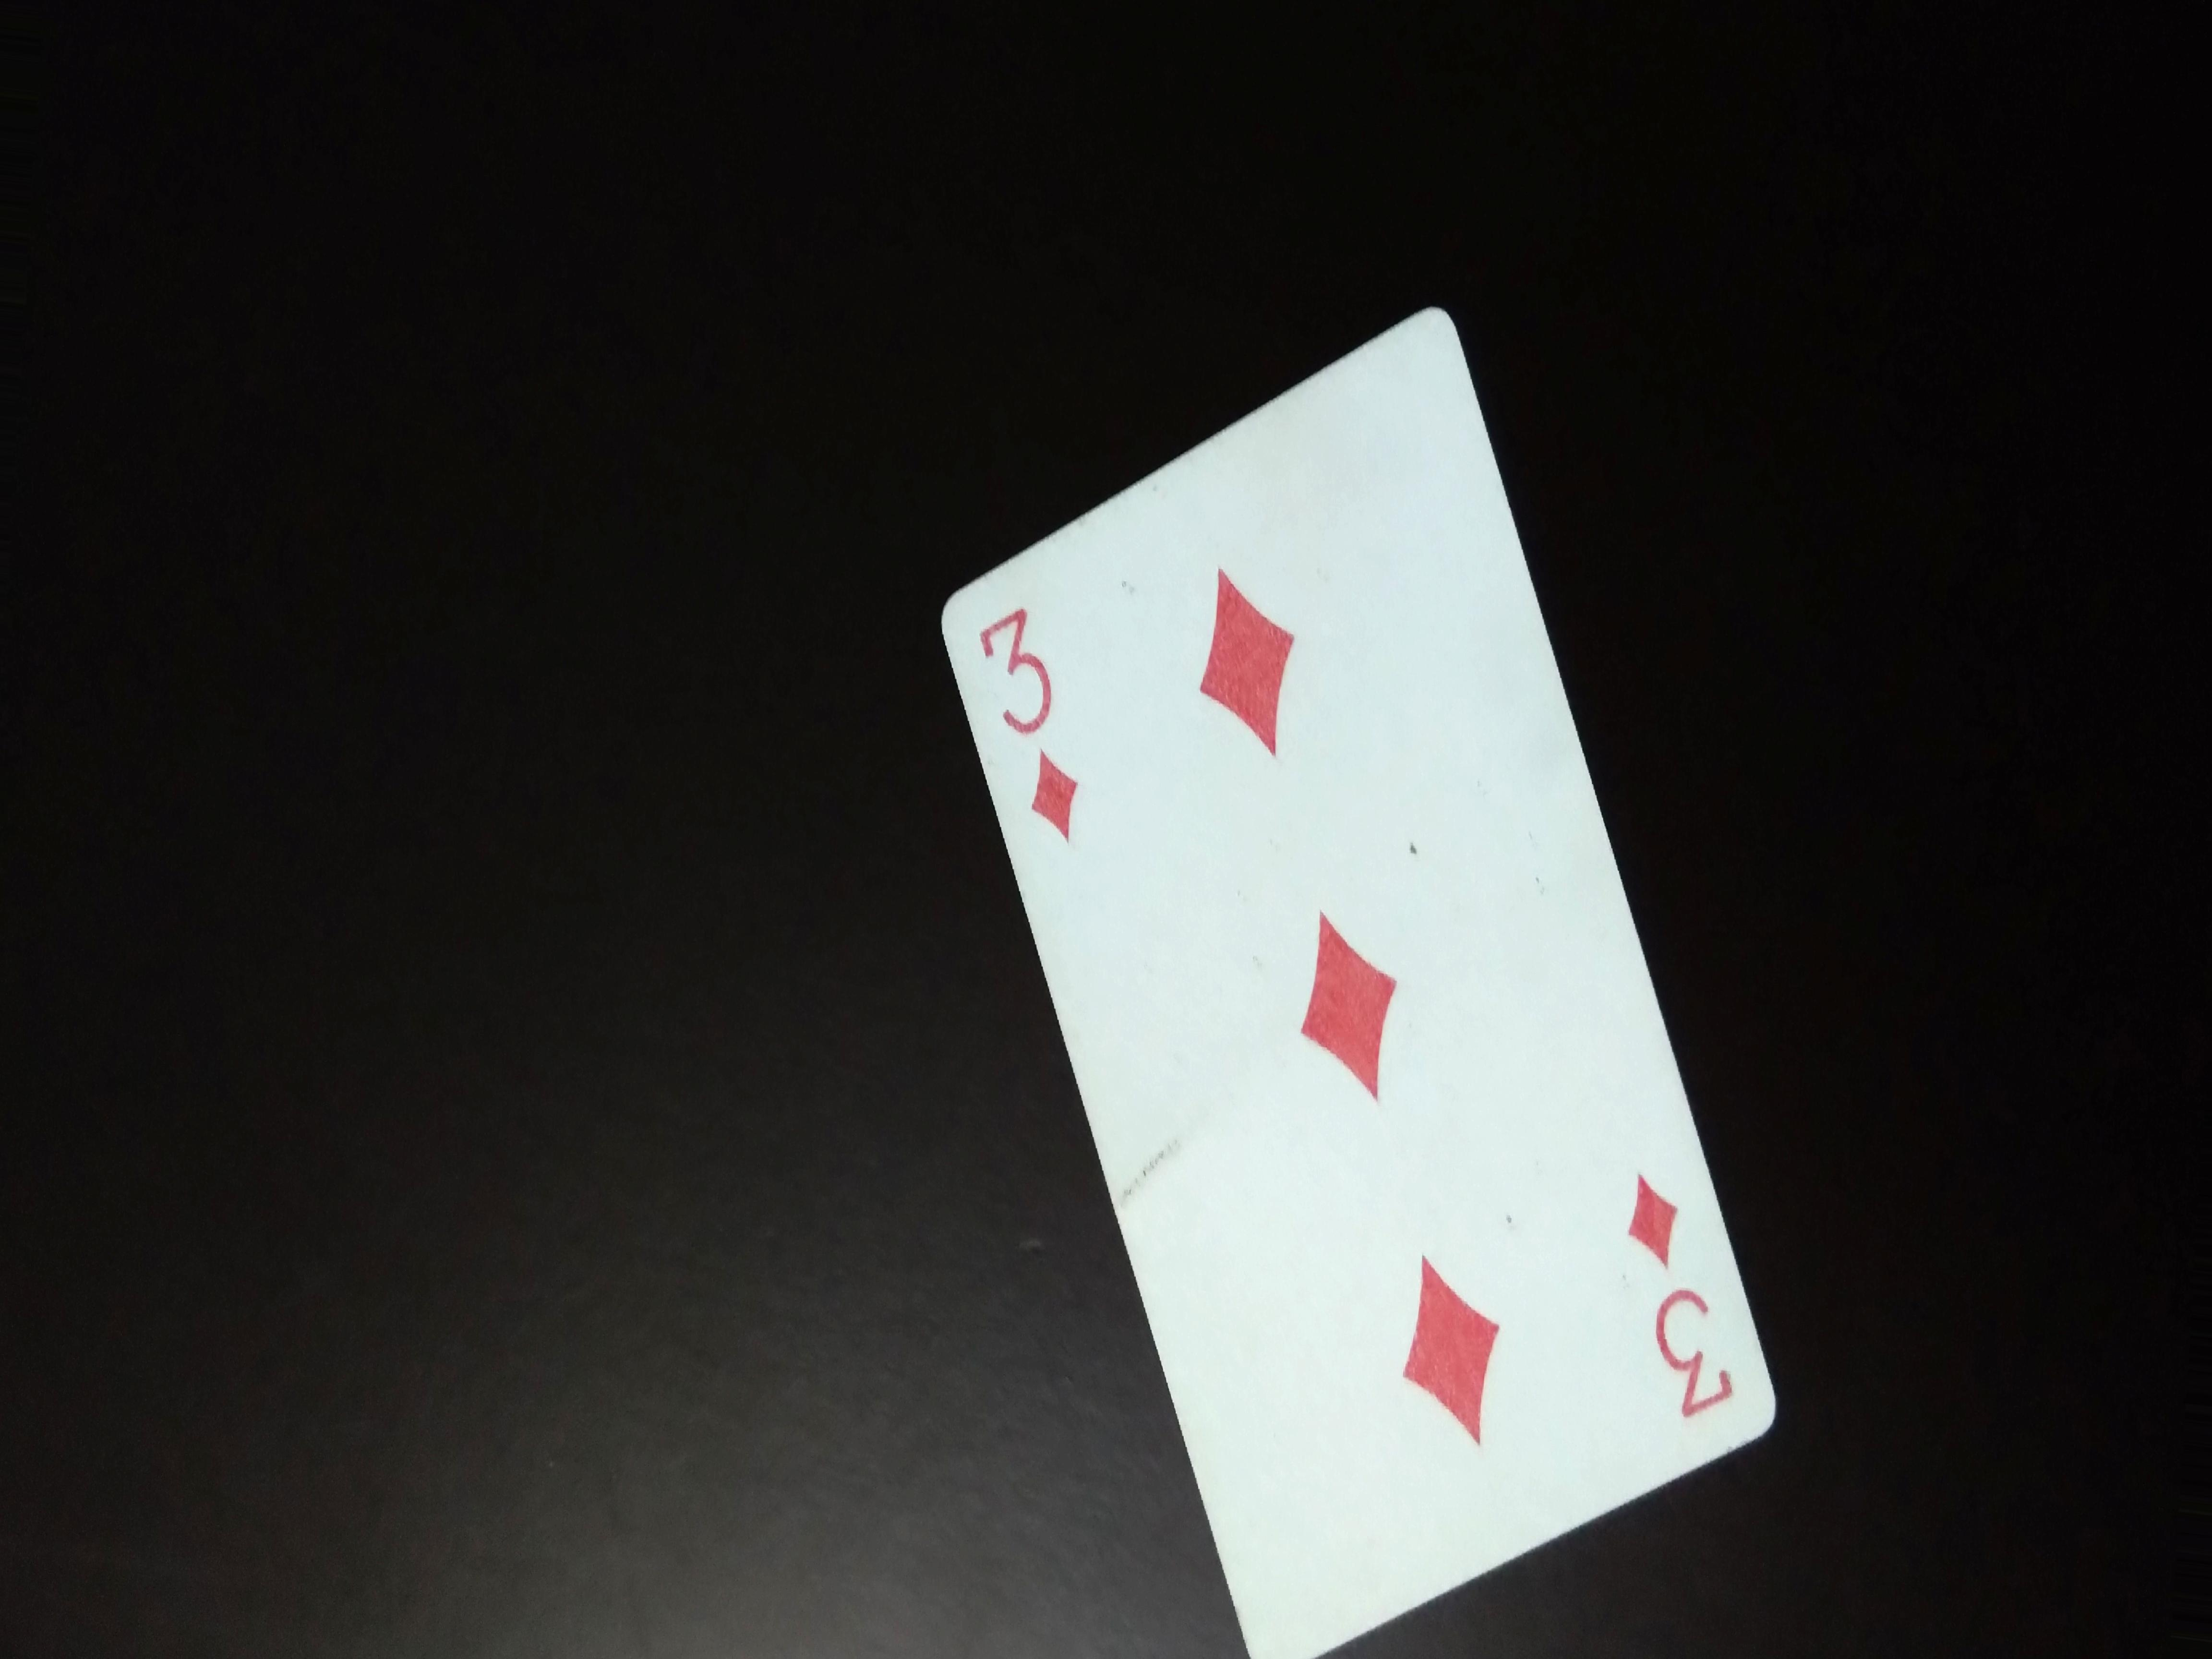3D: (1581, 1147, 1768, 1427)
